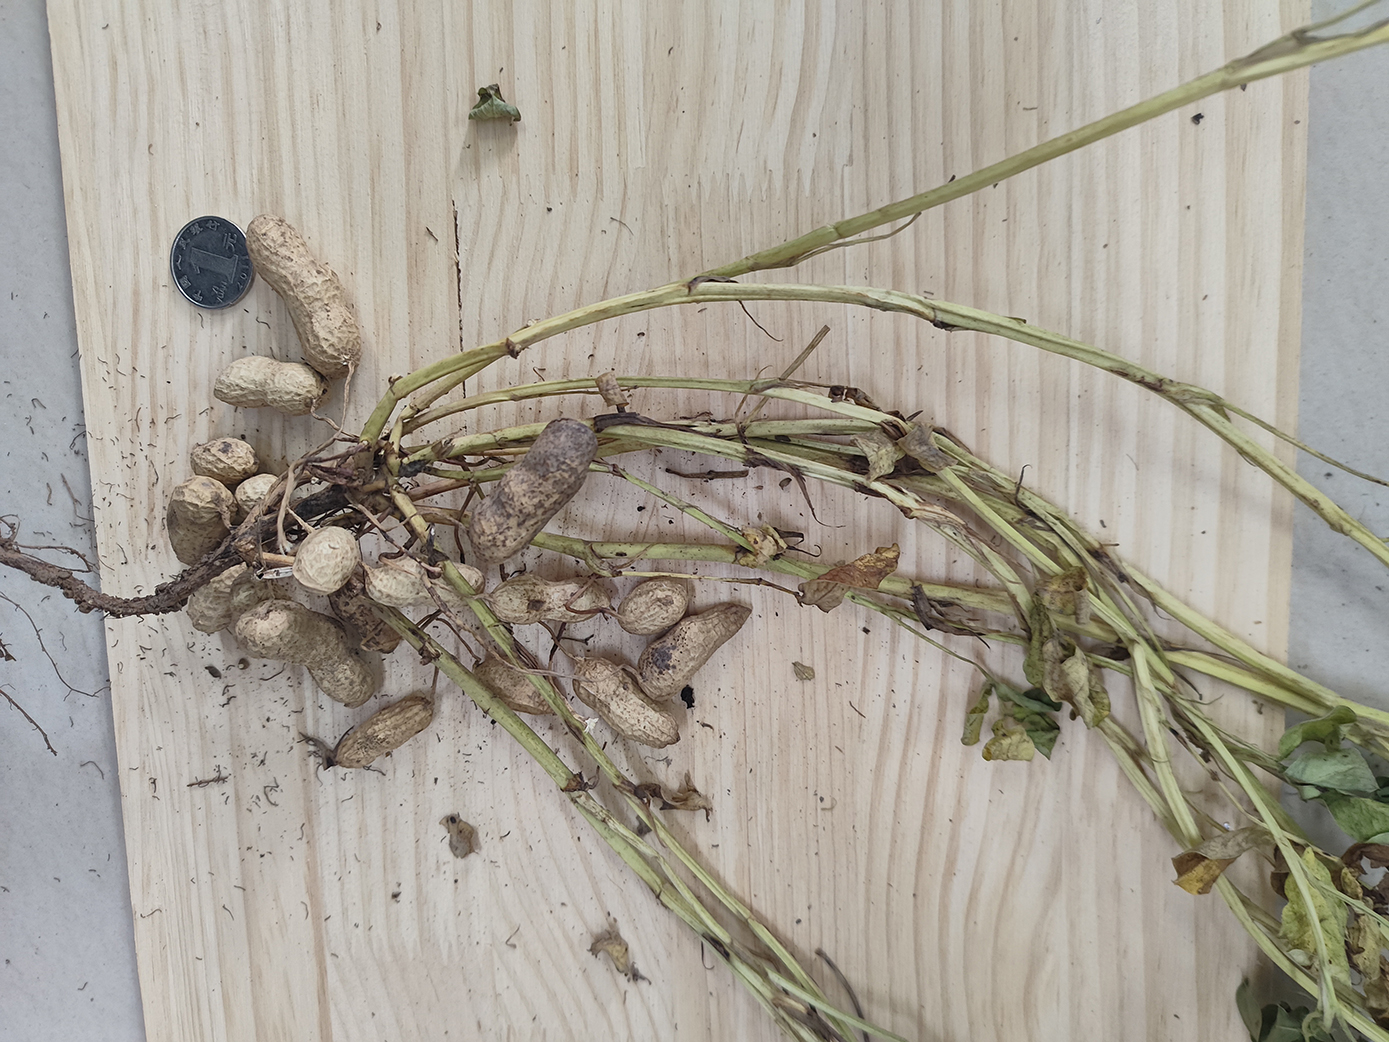h: (246, 215, 363, 378), (236, 599, 377, 710), (638, 603, 750, 699), (575, 656, 681, 749), (336, 695, 433, 769), (215, 355, 327, 413), (166, 477, 235, 567), (491, 576, 611, 627), (367, 560, 487, 609), (468, 659, 562, 720), (327, 581, 397, 652), (291, 525, 357, 592), (615, 580, 690, 636), (188, 559, 241, 634), (190, 438, 261, 479), (233, 569, 298, 610), (234, 475, 286, 519)
l: (470, 419, 595, 563)
